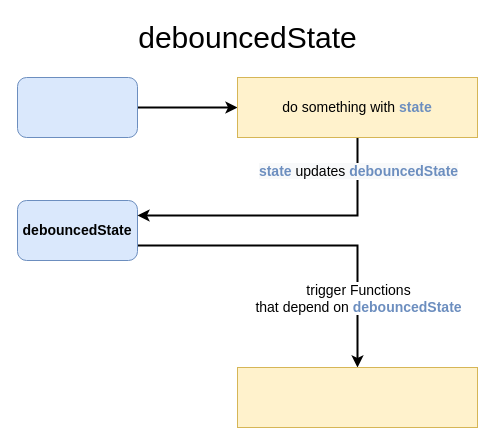
The diagram is 495 pixels wide and 445 high, and some of its shapes have lost their labels. Here are the shapes that lost their labels. From the top down, the centre of each, then its label:
At pixel 77 107: "state".
At pixel 357 397: "do something with updates debouncedState".
